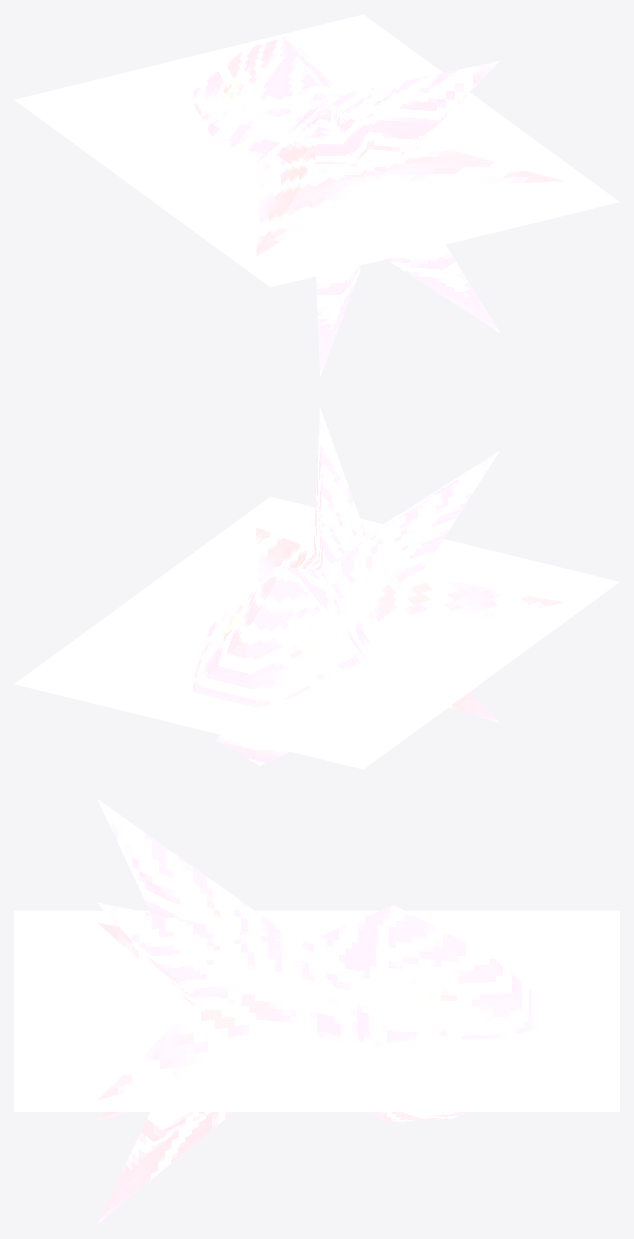
The model's file is sfx_spirit_order_salamander_missile1.glb.
3 renders of one model, top to bottom at view 1: azimuth 30°, elevation 25°; view 2: azimuth 150°, elevation 25°; view 3: azimuth 270°, elevation 25°, orthographic. The views are drawn at different scales.
Visible parts, largest first — view 1: sfx_spirit_order_salamander_missile1; view 2: sfx_spirit_order_salamander_missile1; view 3: sfx_spirit_order_salamander_missile1.
Boxes of the visible parts, x1,y1,x2,y2 form: sfx_spirit_order_salamander_missile1: (14, 14, 619, 376); sfx_spirit_order_salamander_missile1: (14, 406, 619, 769); sfx_spirit_order_salamander_missile1: (14, 798, 619, 1223).
Size of the model in its own units: 0.6068 by 0.4525 by 0.7709.
Materials: 2 (2 with a texture image).
